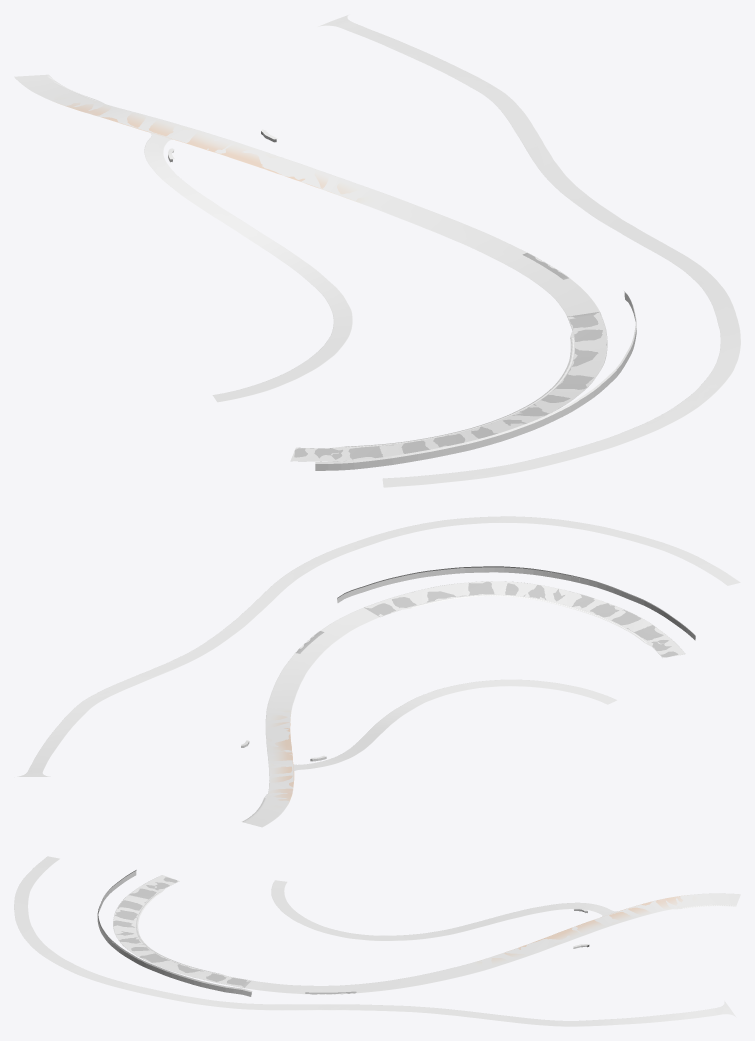
File: meshroads9.dae
3 renders of one model, top to bottom at view 1: azimuth 30°, elevation 25°; view 2: azimuth 150°, elevation 25°; view 3: azimuth 270°, elevation 25°, orthographic. The views are drawn at different scales.
Visible parts, largest first — view 1: meshroads9_a8000, meshroads9_a3000; view 2: meshroads9_a8000, meshroads9_a3000; view 3: meshroads9_a8000, meshroads9_a3000.
Boxes of the visible parts, <box> form: meshroads9_a8000: <box>14,14,740,487</box>; meshroads9_a3000: <box>15,16,740,487</box>; meshroads9_a8000: <box>17,516,740,827</box>; meshroads9_a3000: <box>19,516,740,827</box>; meshroads9_a8000: <box>14,856,740,1026</box>; meshroads9_a3000: <box>14,856,740,1026</box>.
Bounding box in the file's own units: 180 × 323 × 15.87.
